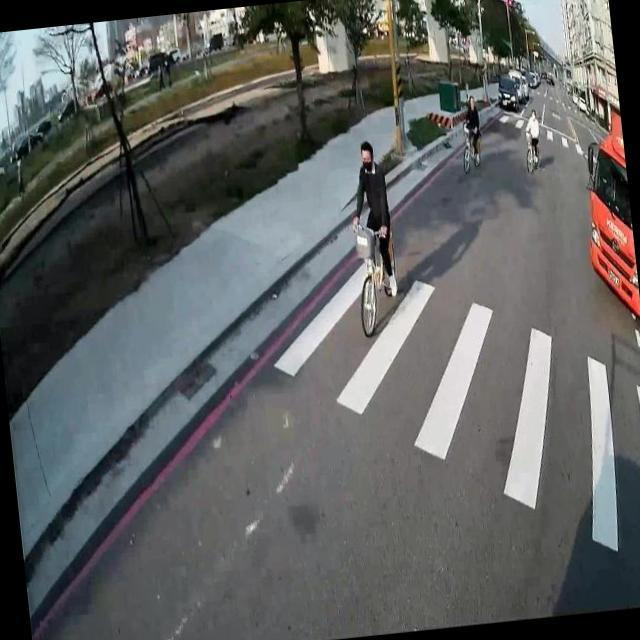person: (341, 134, 400, 300), (460, 94, 484, 166), (521, 106, 543, 164)
